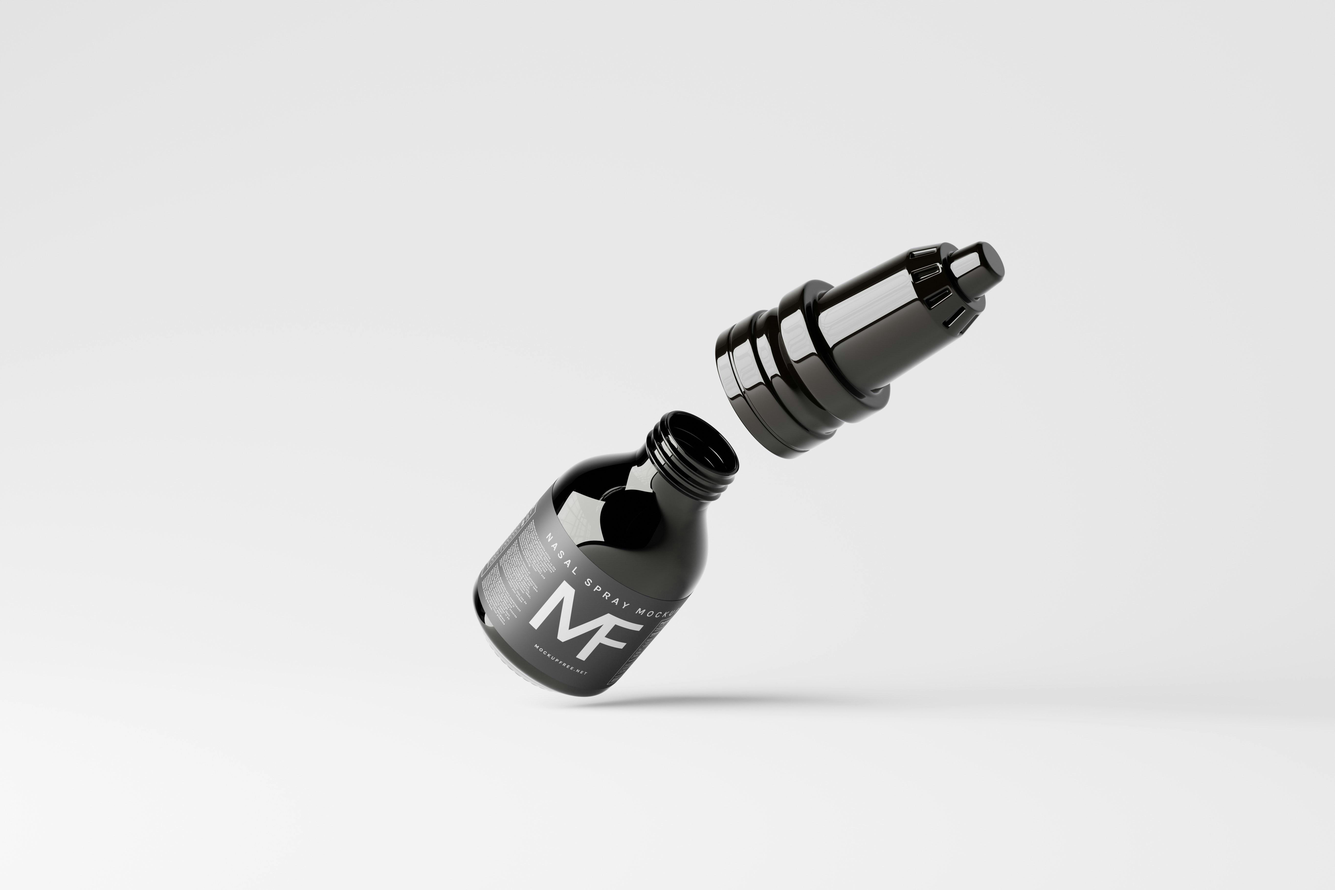Bottle-Detection: (377, 176, 1088, 760)
